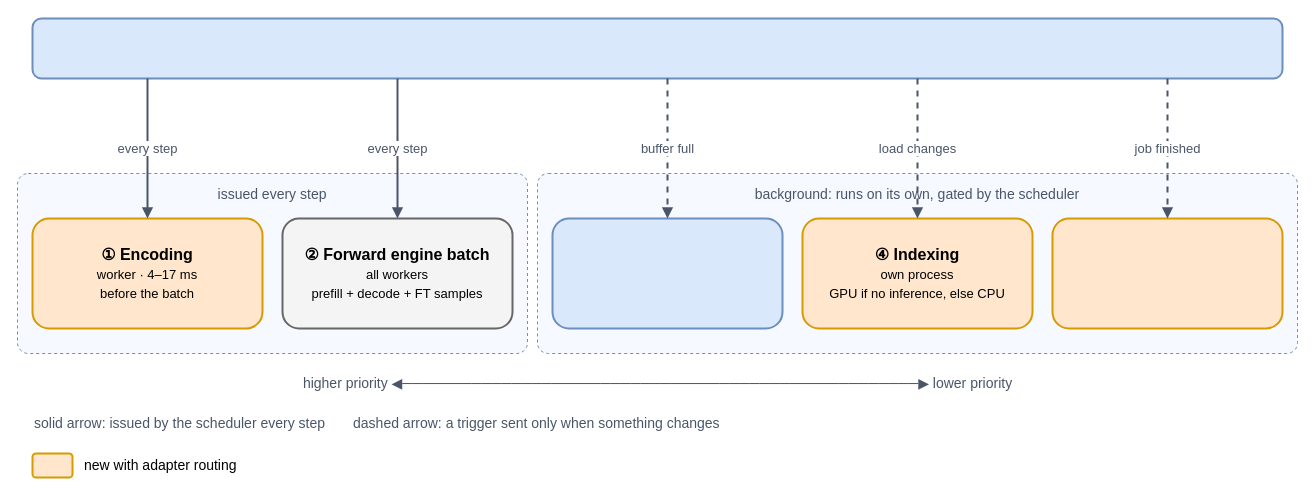
Image size: 1315x497. Some labels were removed from this diagram. The centre of each missing label's shape, as x and y in pixels:
SLO-aware scheduler: point 657,48
③ Backward batch backward process yields to ① and prefill: point 667,273
⑤ Adapter handover background threads save · publish · next job: point 1167,273
